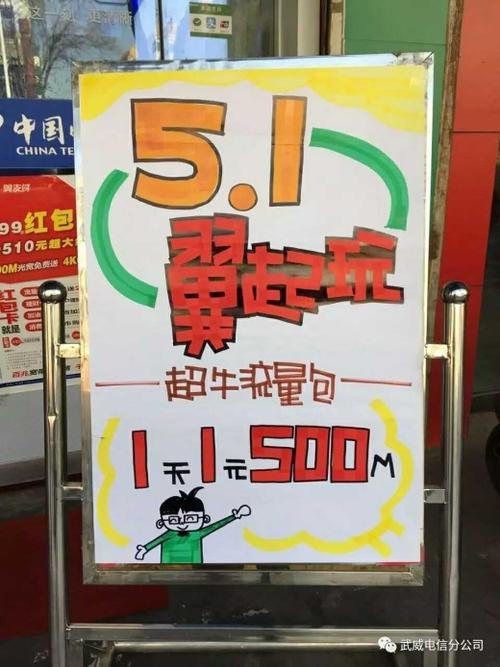bill: (77, 65, 428, 568), (1, 178, 79, 386)
